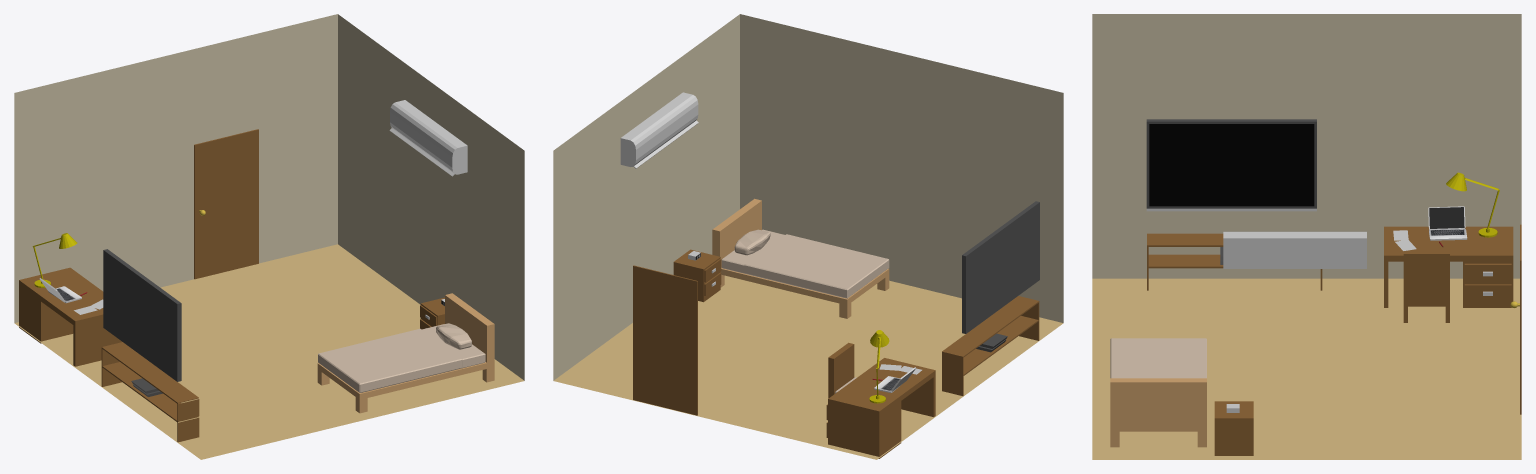
Rendered from scene_Q3p0aj2jvH.glb.
3 renders of one model, left to right at view 1: azimuth 30°, elevation 25°; view 2: azimuth 150°, elevation 25°; view 3: azimuth 270°, elevation 25°, orthographic. The views are drawn at different scales.
Visible parts, largest first — view 1: Plane, Cube, Door_Plane.002, Plane.001, Cube.004, Shelf_Cube.007, Aircon_Cube.009, Cube.002, Cube.001; view 2: Plane, Cube, Door_Plane.002, Cube.004, Plane.001, Shelf_Cube.007, Aircon_Cube.009, Cube.002, Cube.006, Cube.001; view 3: Plane, Plane.001, Cube, Cube.004, Aircon_Cube.009, Cube.006, Shelf_Cube.007, Cube.002, Laptop_Cube.010, Cylinder.001, Door_Plane.002.
Part boxes in pixels (<box>): Plane: <box>14,14,524,459</box>; Cube: <box>317,293,494,413</box>; Door_Plane.002: <box>194,129,258,279</box>; Plane.001: <box>103,249,181,381</box>; Cube.004: <box>19,267,121,366</box>; Shelf_Cube.007: <box>101,342,199,442</box>; Aircon_Cube.009: <box>389,100,467,176</box>; Cube.002: <box>420,297,444,329</box>; Cube.001: <box>436,323,471,349</box>; Plane: <box>553,14,1063,459</box>; Cube: <box>712,198,889,318</box>; Door_Plane.002: <box>633,265,697,415</box>; Cube.004: <box>826,358,935,458</box>; Plane.001: <box>962,201,1039,333</box>; Shelf_Cube.007: <box>942,296,1039,395</box>; Aircon_Cube.009: <box>620,92,698,168</box>; Cube.002: <box>673,249,721,302</box>; Cube.006: <box>828,342,856,398</box>; Cube.001: <box>734,229,770,255</box>; Plane: <box>1092,14,1521,459</box>; Plane.001: <box>1146,119,1316,211</box>; Cube: <box>1110,338,1206,447</box>; Cube.004: <box>1384,226,1513,307</box>; Aircon_Cube.009: <box>1223,231,1366,268</box>; Cube.006: <box>1403,251,1449,322</box>; Shelf_Cube.007: <box>1147,233,1322,290</box>; Cube.002: <box>1214,401,1253,455</box>; Laptop_Cube.010: <box>1428,206,1467,240</box>; Cylinder.001: <box>1446,172,1499,237</box>; Door_Plane.002: <box>1510,224,1521,414</box>.
Bounding box in the file's own units: 26.23 × 17.92 × 26.12.
19 materials, 2 textured.
